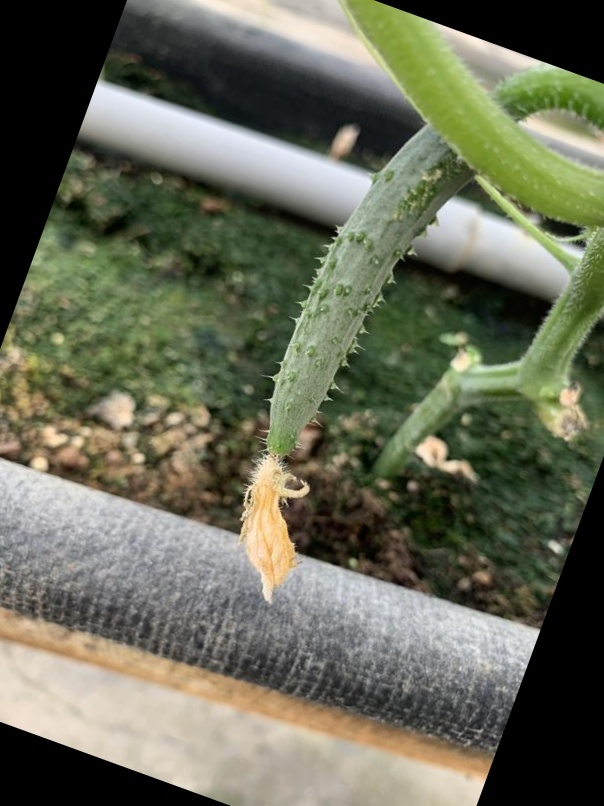growth: (221, 127, 478, 575)
